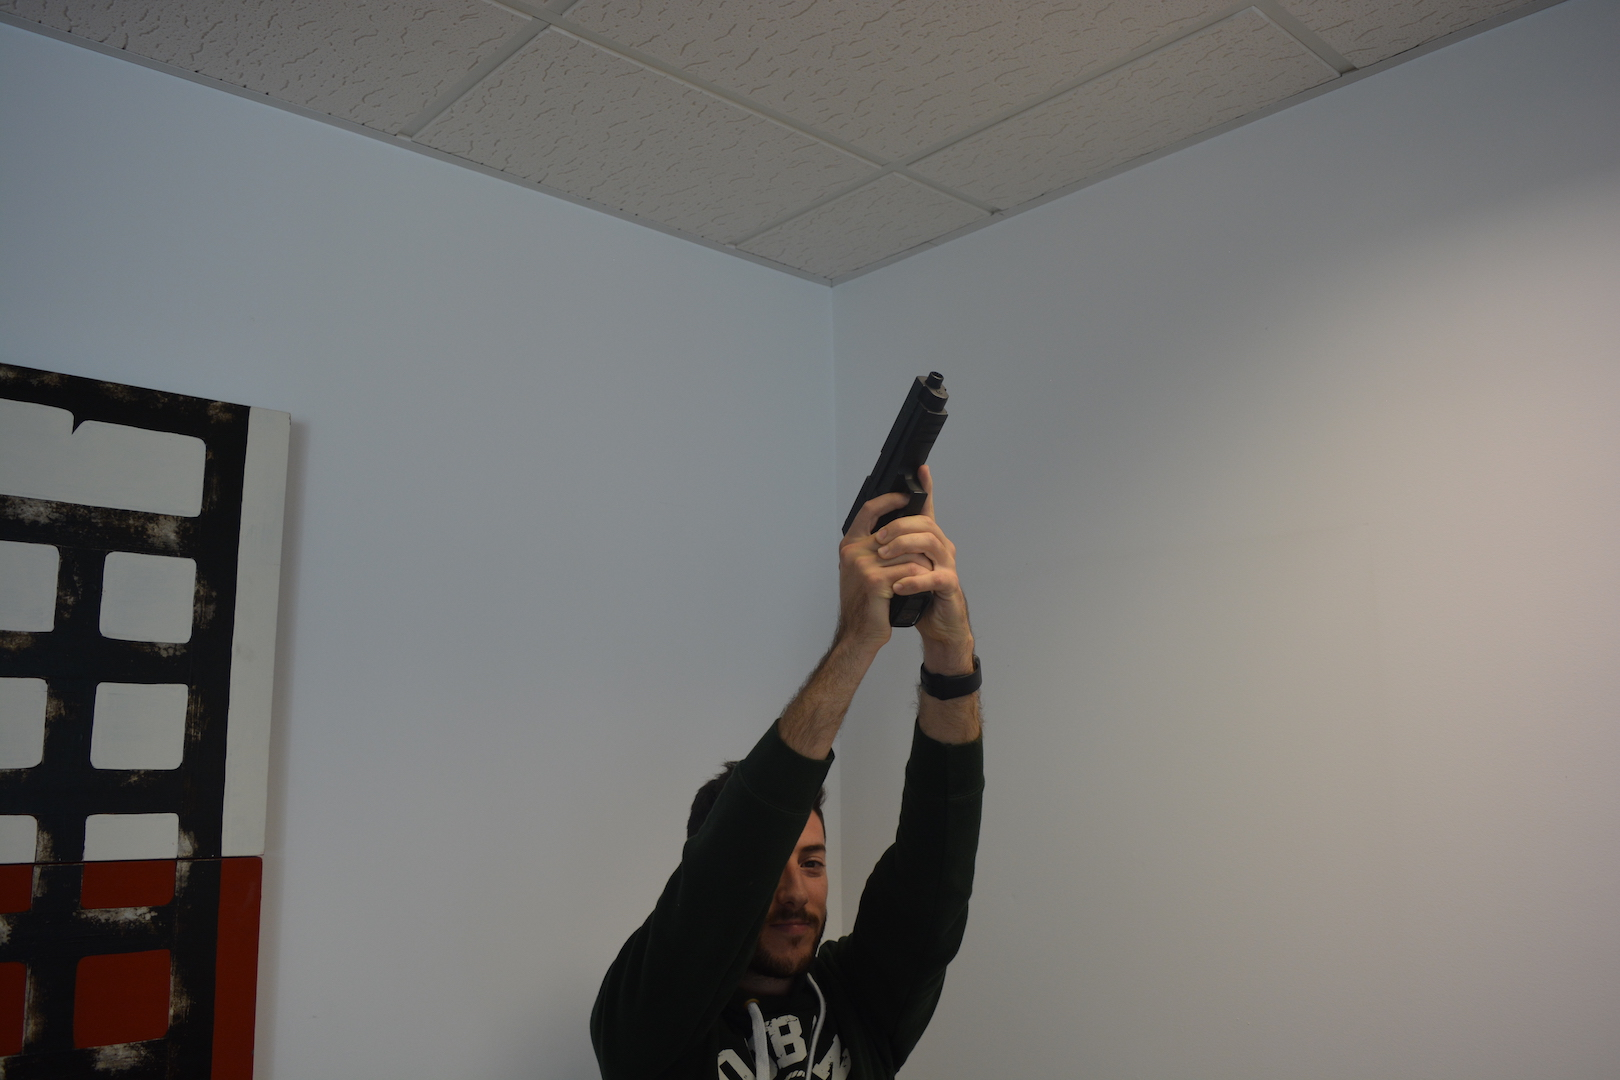pistol: (839, 370, 951, 629)
